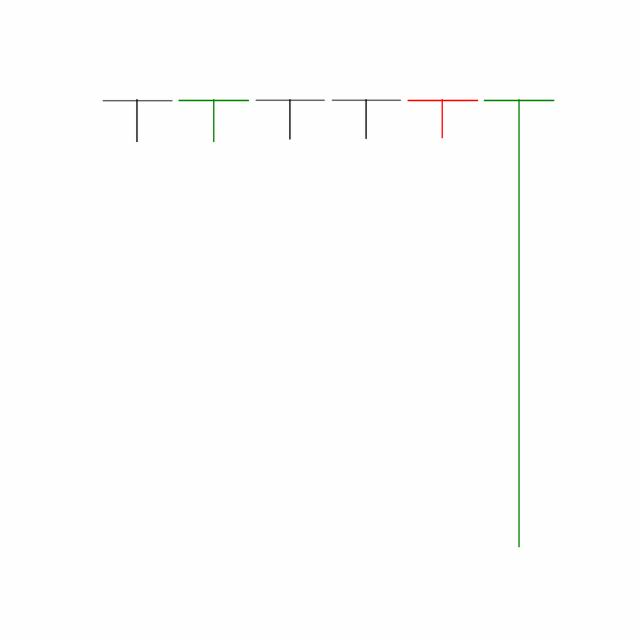Dragonfly Doji: (403, 97, 481, 139)
